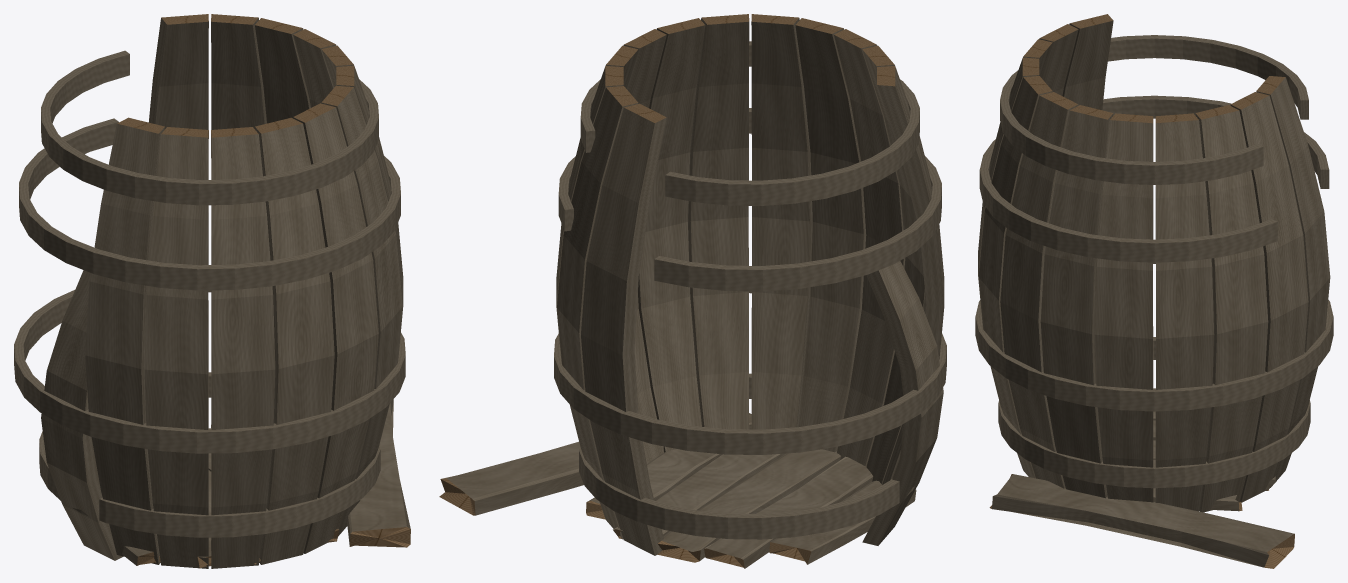
The model's file is barrel_broken.fbx.
3 renders of one model, left to right at view 1: azimuth 30°, elevation 25°; view 2: azimuth 150°, elevation 25°; view 3: azimuth 270°, elevation 25°, orthographic. The views are drawn at different scales.
Parts seen in each view (by area): view 1: barrel_broken; view 2: barrel_broken; view 3: barrel_broken.
Part boxes in pixels (x1,y1,x2,y2): barrel_broken: (14,14,410,568); barrel_broken: (439,14,946,568); barrel_broken: (975,14,1333,568).
Size of what is drawn, in the model's own units: 0.9186 by 0.9244 by 0.7507.
1 material, 1 textured.
